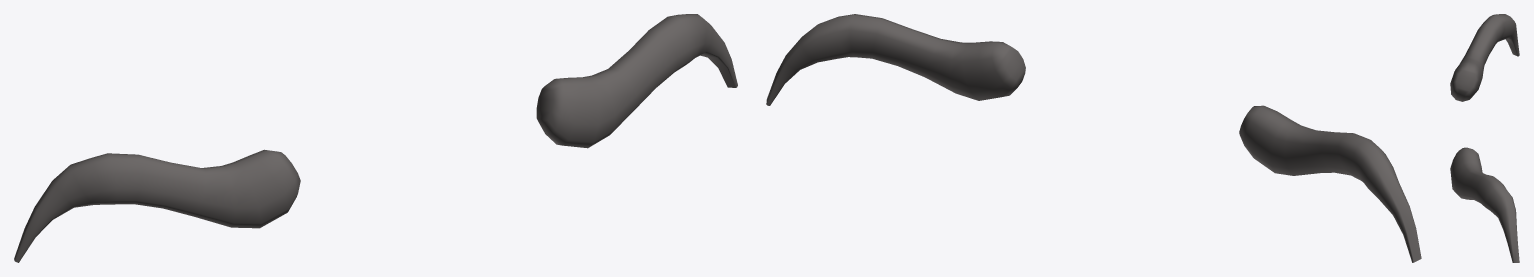
The model's file is Eyebrows_27_04.fbx.
3 renders of one model, left to right at view 1: azimuth 30°, elevation 25°; view 2: azimuth 150°, elevation 25°; view 3: azimuth 270°, elevation 25°, orthographic. The views are drawn at different scales.
Visible parts, largest first — view 1: Eyebrows_27_04; view 2: Eyebrows_27_04; view 3: Eyebrows_27_04.
Part boxes in pixels (left/top/right/bottom): Eyebrows_27_04: left=14, top=14, right=737, bottom=262; Eyebrows_27_04: left=766, top=14, right=1421, bottom=262; Eyebrows_27_04: left=1450, top=14, right=1519, bottom=262.
Bounding box in the file's own units: 18.72 × 2.55 × 2.61.
